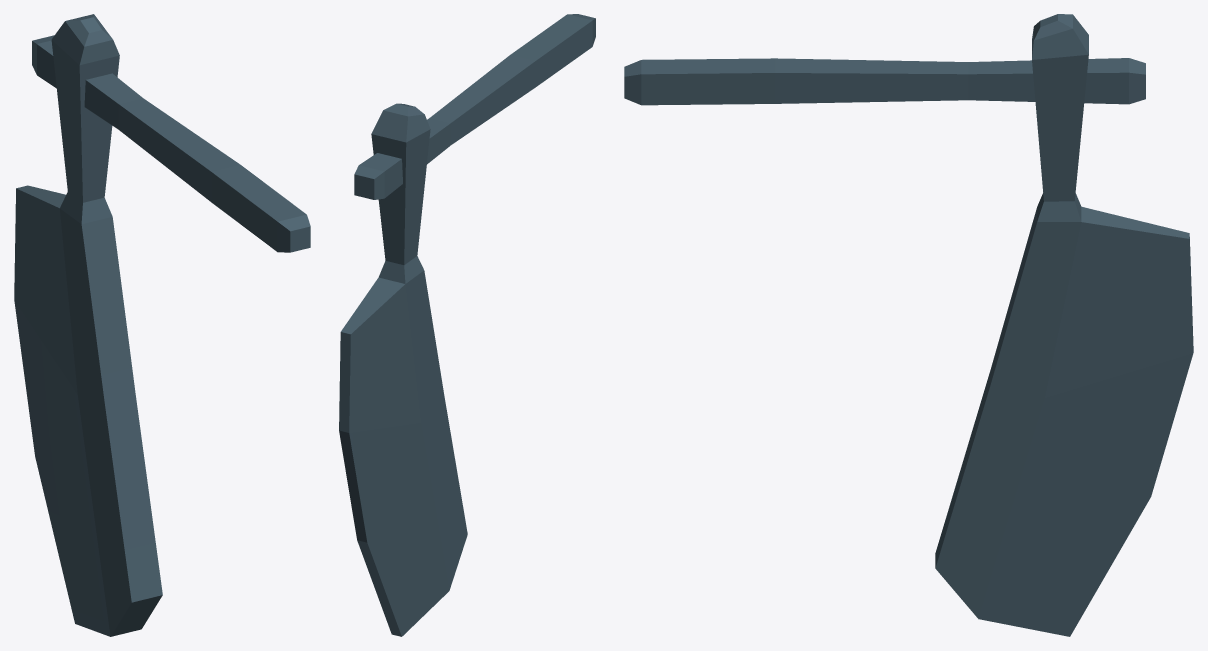
The model's file is BoatLarge_2_Rudder.fbx.
3 views of the same model, side by side, from view 1: azimuth 30°, elevation 25°; view 2: azimuth 150°, elevation 25°; view 3: azimuth 270°, elevation 25° (orthographic). The views are drawn at different scales.
Visible parts, largest first — view 1: BoatLarge_2_Rudder; view 2: BoatLarge_2_Rudder; view 3: BoatLarge_2_Rudder.
Boxes of the visible parts, x1=… form: BoatLarge_2_Rudder: x1=14, y1=14, x2=310, y2=636; BoatLarge_2_Rudder: x1=339, y1=14, x2=595, y2=636; BoatLarge_2_Rudder: x1=624, y1=14, x2=1193, y2=636.
Size of the model in its own units: 10.16 by 147 by 123.
